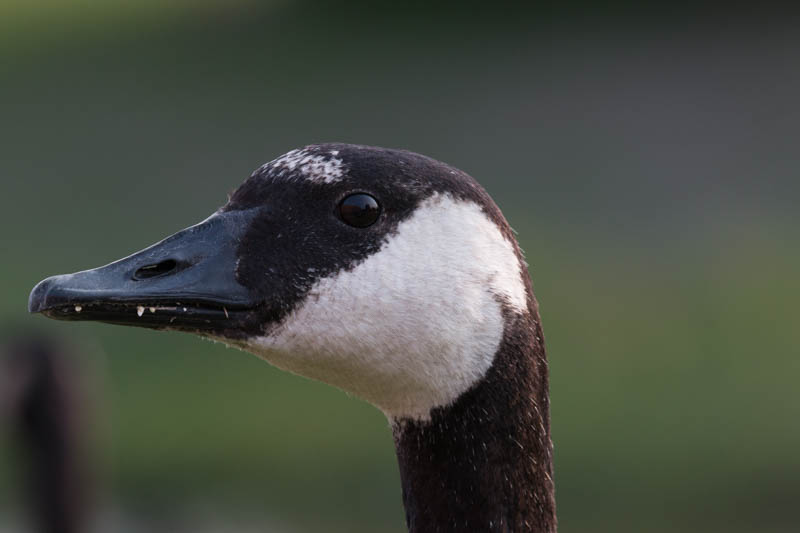goose-head: (28, 144, 550, 426)
